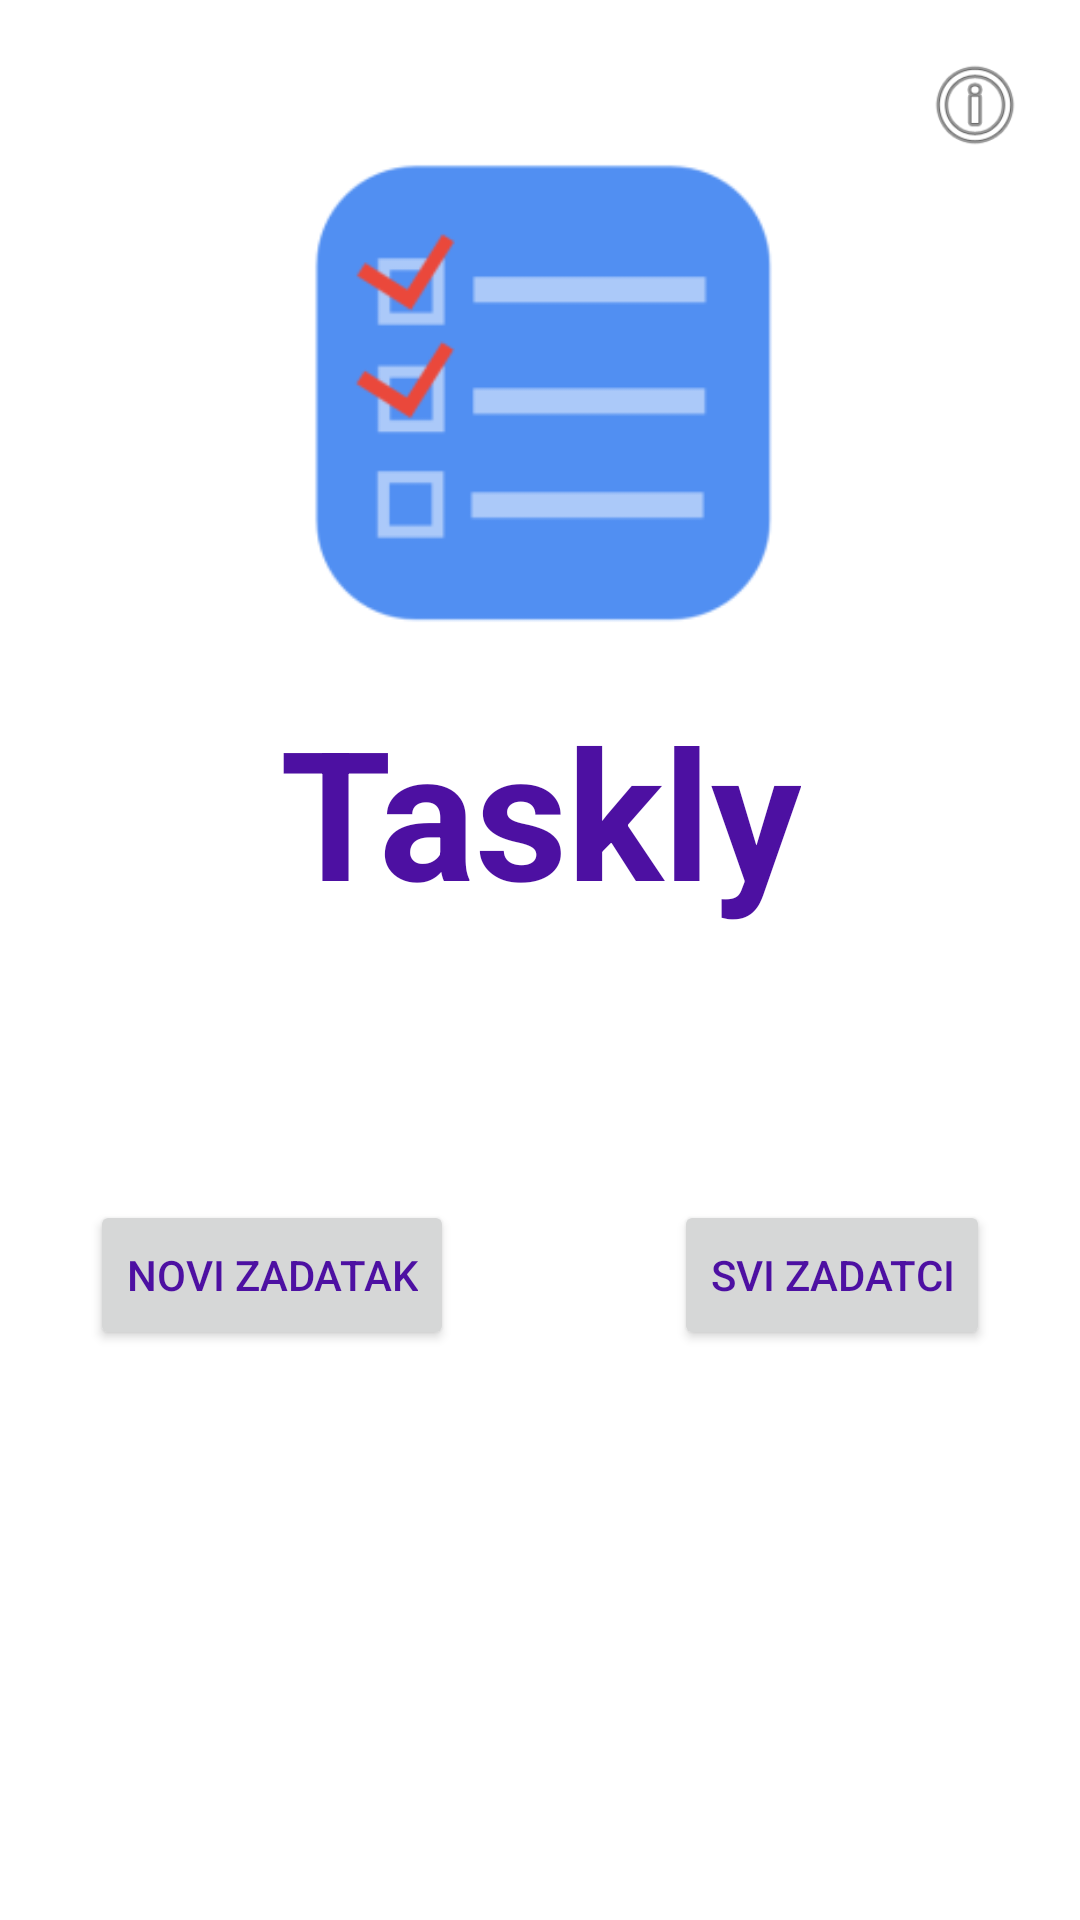

Named icons in this screenshot (1080 × 1920) and their centers, point (x, y):
info details: point (975, 105)
